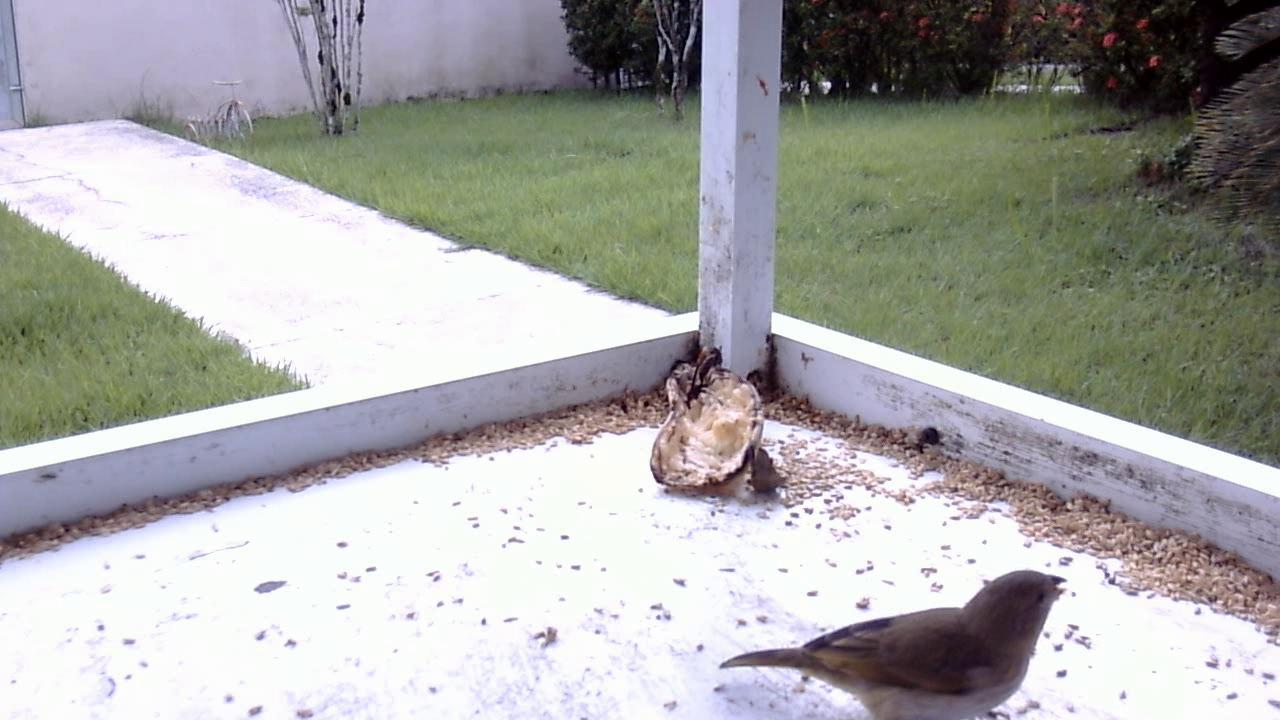canario_do_amazonas: (709, 560, 1076, 718)
